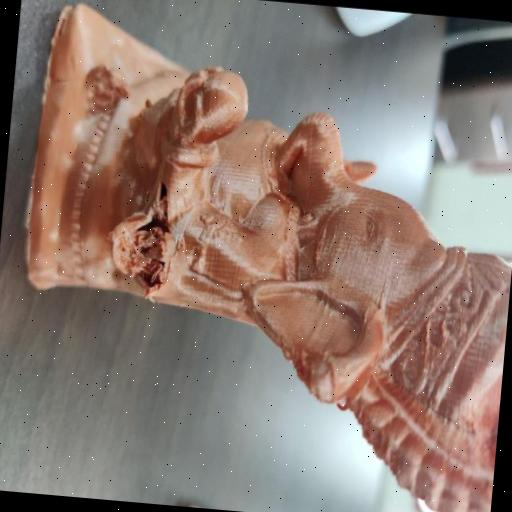cracks: (111, 178, 192, 295)
